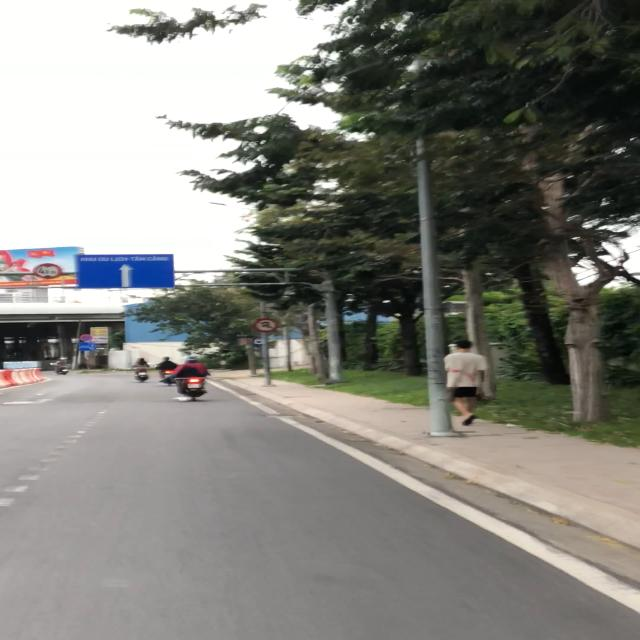Bien bao cam quay dau xe: (251, 317, 280, 333)
Bien bao han che chieu cao: (33, 261, 63, 281)
